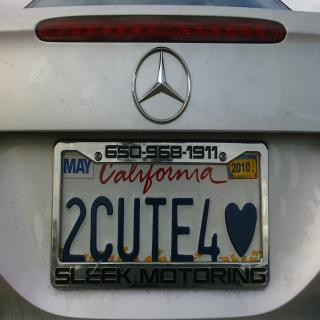license: (52, 138, 270, 290)
